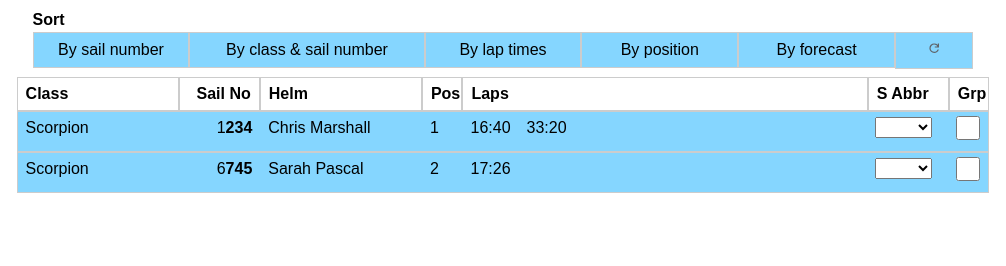
Test case: when adding a lap time › clears error message on success
Click the element showing "1234" at [221, 127], box x1=217 y1=119 x2=252 y2=136
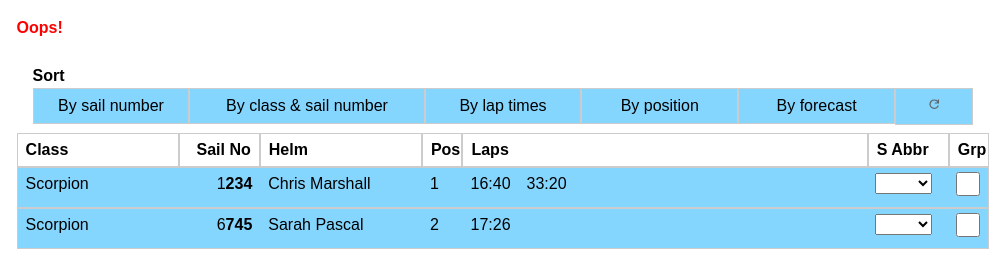
Now the text "Oops!" is shown, box x1=17 y1=19 x2=63 y2=36
Click the element showing "1234" at [221, 183], box x1=217 y1=175 x2=252 y2=192
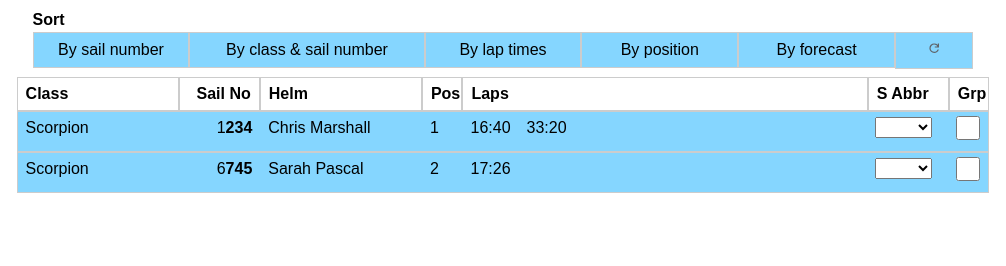
Now the text "Oops" is gone
